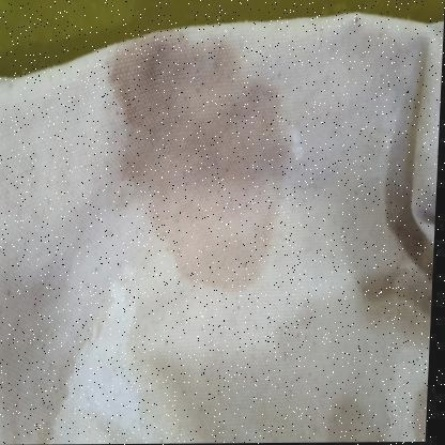coffee: (148, 74, 262, 225)
